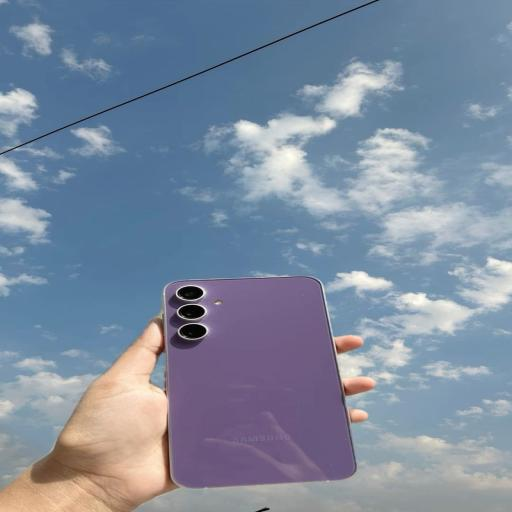curb: (163, 276, 356, 488)
